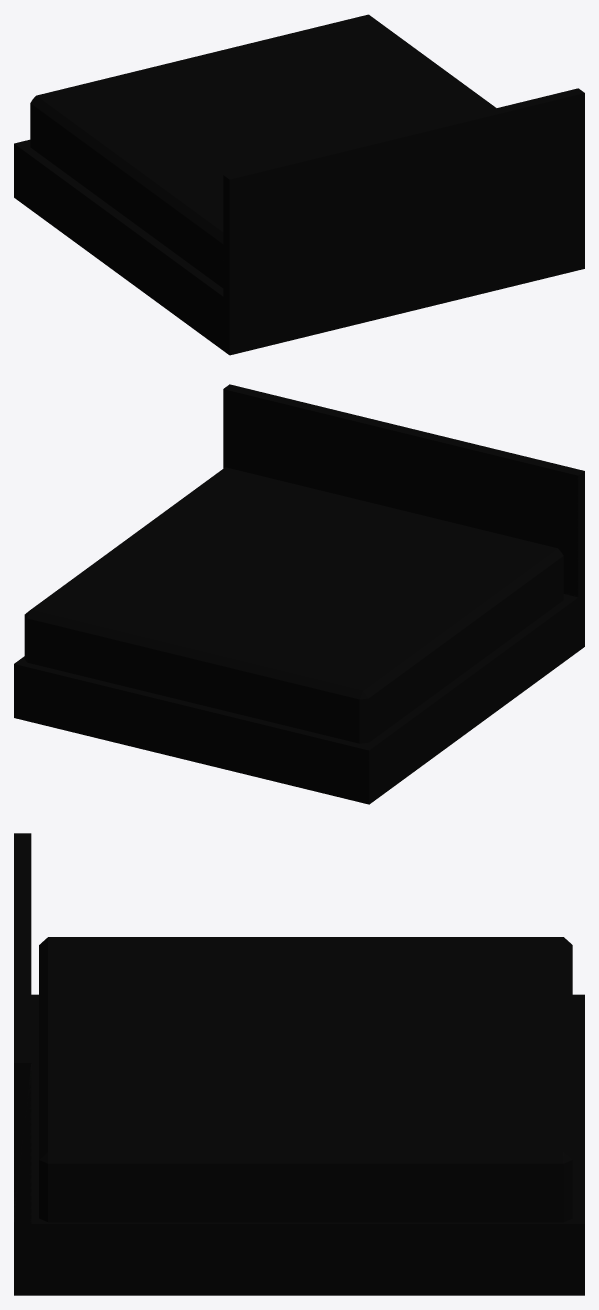
The model's file is DoubbleBed.fbx.
3 renders of one model, top to bottom at view 1: azimuth 30°, elevation 25°; view 2: azimuth 150°, elevation 25°; view 3: azimuth 270°, elevation 25°, orthographic. The views are drawn at different scales.
Visible parts, largest first — view 1: node_id6; view 2: node_id6; view 3: node_id6.
Boxes of the visible parts, x1=… form: node_id6: x1=14, y1=14, x2=584, y2=355; node_id6: x1=14, y1=384, x2=584, y2=804; node_id6: x1=14, y1=833, x2=584, y2=1295.
Bounding box in the file's own units: 0.512 × 0.242 × 0.5384.
2 materials, 2 textured.
